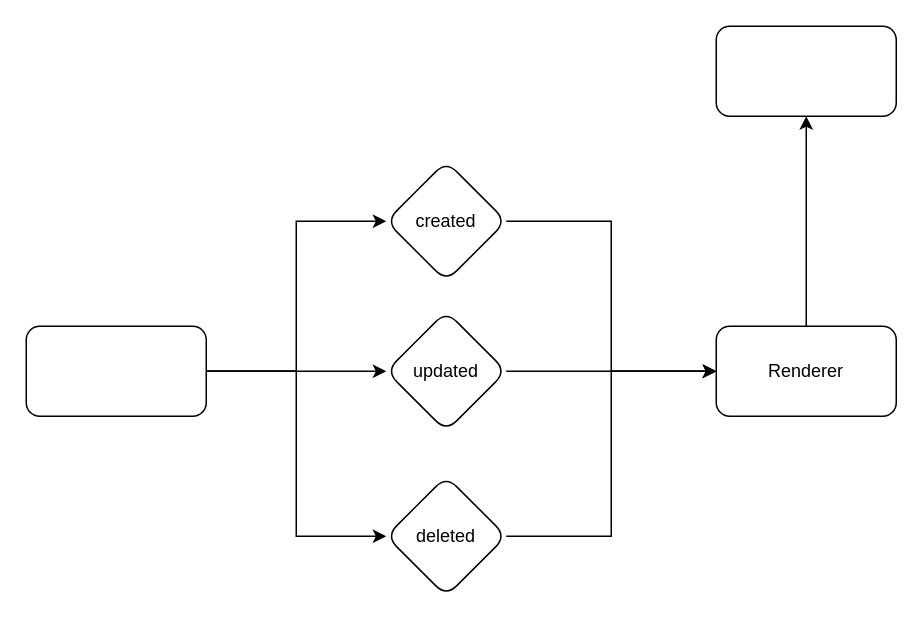
The diagram is 923 pixels wide and 623 high, and some of its shapes have lost their labels. Each missing label, with the box of its shape:
DataStore: (25, 325, 206, 416)
TextureStore: (715, 25, 896, 116)
